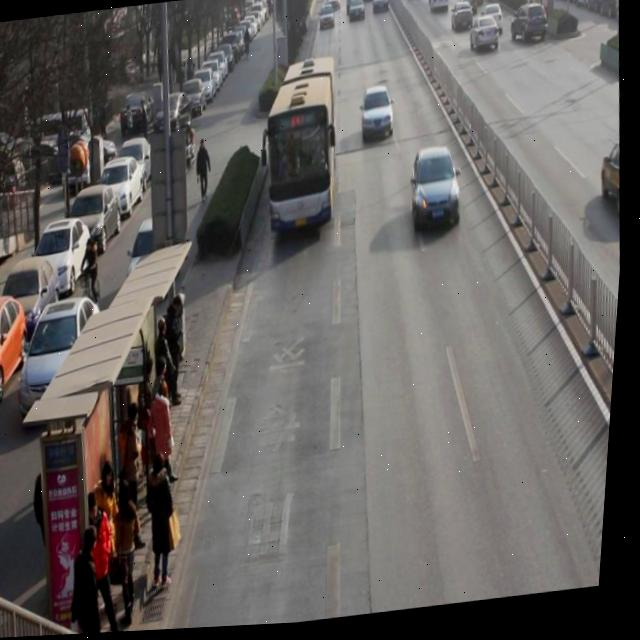car: (409, 149, 469, 238), (359, 88, 399, 147), (510, 5, 550, 52), (467, 19, 503, 60), (449, 4, 476, 37), (481, 6, 506, 38)
van: (260, 58, 346, 235)
